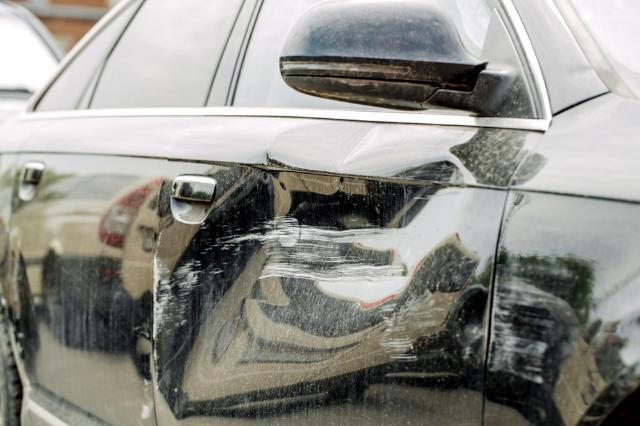dent: (150, 120, 496, 408)
scratch: (487, 266, 559, 383)
